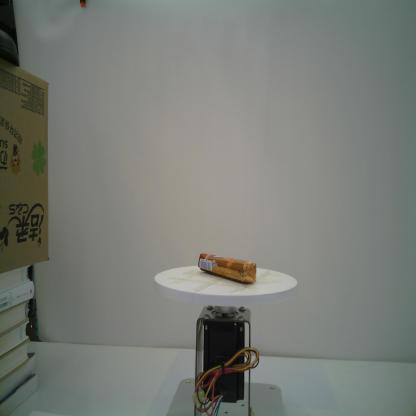Candy: (197, 252, 257, 284)
